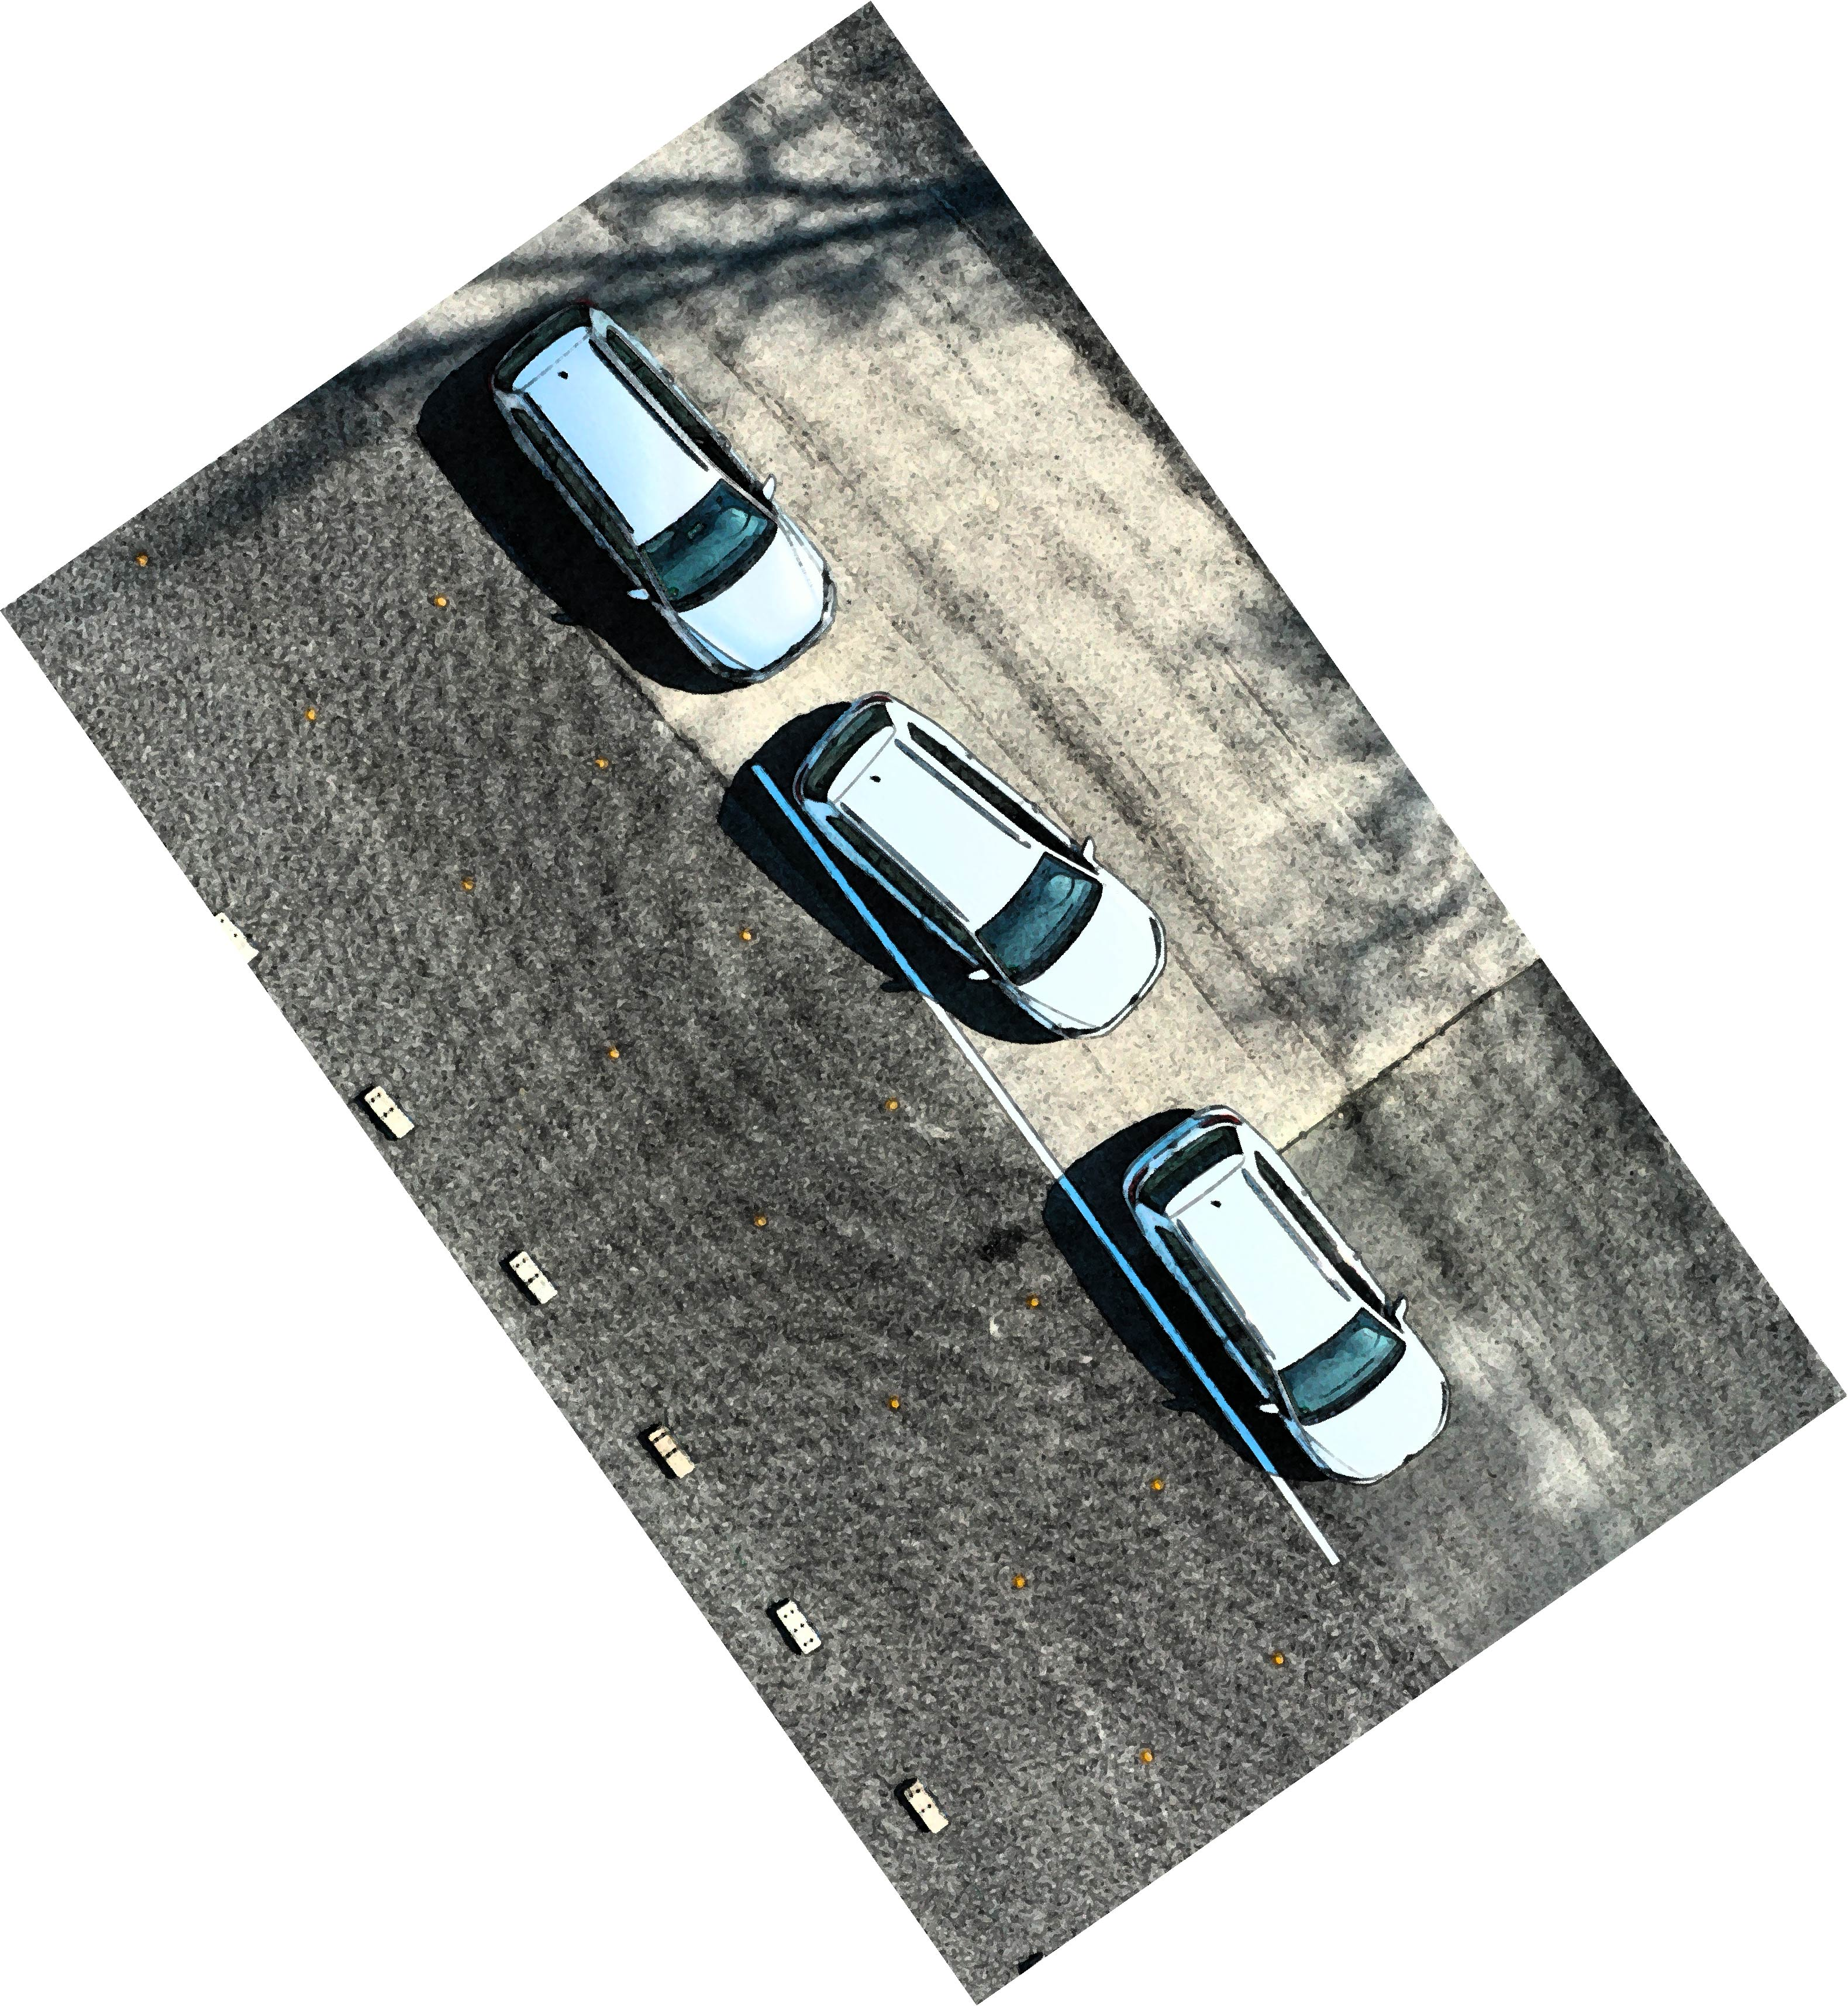Car: (452, 290, 852, 706), (774, 687, 1179, 1047), (1142, 1099, 1465, 1494)
LaneMark: (1280, 1480, 1362, 1583), (1034, 1139, 1104, 1237), (971, 1048, 1038, 1143), (908, 970, 973, 1055), (1102, 1239, 1153, 1307), (863, 905, 908, 966), (1158, 1318, 1205, 1373), (1205, 1377, 1245, 1440), (749, 764, 788, 814), (826, 860, 861, 905), (790, 814, 824, 858), (1247, 1443, 1282, 1484)
